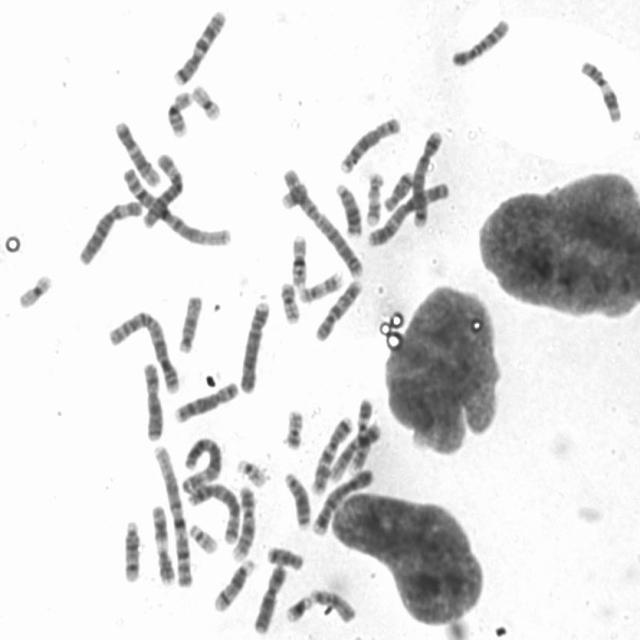A1: (120, 164, 232, 249), (151, 441, 194, 589)
A2: (279, 166, 364, 280), (104, 306, 184, 397)
A3: (364, 179, 452, 249), (179, 433, 223, 496)
B4: (309, 465, 375, 536), (236, 296, 271, 396)
B5: (409, 127, 445, 229), (185, 480, 241, 545)
C10: (312, 276, 364, 344), (448, 15, 512, 69)
C11: (577, 57, 623, 125), (150, 502, 176, 587)
C12: (326, 423, 381, 487), (112, 118, 162, 188)
C6: (75, 197, 143, 268), (140, 149, 184, 229)
C7: (170, 7, 227, 87), (308, 412, 353, 496)
C8: (336, 114, 402, 176), (171, 378, 241, 425)
C9: (229, 484, 258, 562), (347, 394, 375, 473)
D13: (281, 469, 312, 530), (331, 180, 363, 238)
D14: (210, 557, 256, 613), (121, 517, 142, 583)
D15: (306, 585, 358, 624), (176, 292, 204, 355)
E16: (163, 88, 194, 139), (286, 232, 310, 288)
E17: (296, 268, 345, 306), (364, 169, 386, 228)
E18: (380, 168, 415, 212), (264, 542, 304, 572)
F19: (15, 272, 54, 310), (190, 80, 223, 124)
F20: (280, 406, 306, 450), (278, 279, 301, 325)
G21: (283, 590, 313, 623), (280, 182, 307, 212)
G22: (186, 520, 219, 555), (234, 455, 268, 488)
X: (250, 562, 287, 635), (139, 360, 165, 442)
